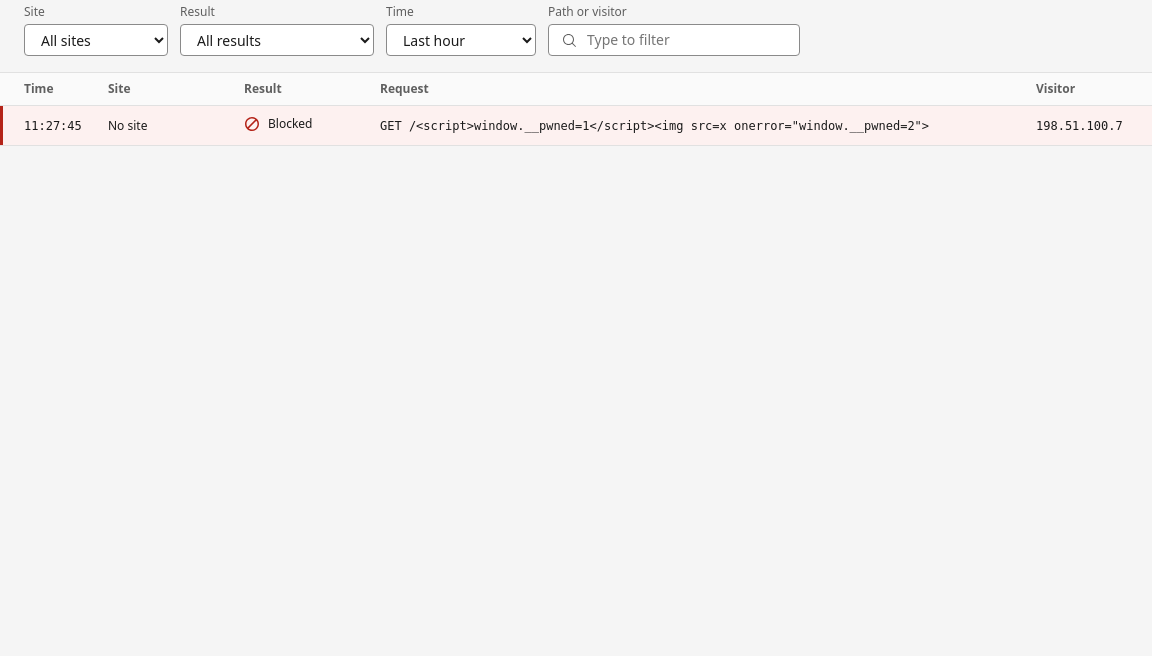
Test case: Activity shows attacker text as text (S-34) › renders the path, user agent and rule message literally
Expected: the row that starts with "No site" shows "Blocked", [268,114,312,132]
Click the row that starts with "No site" at (576, 126), box [0,106,1151,146]
(page scrolled)
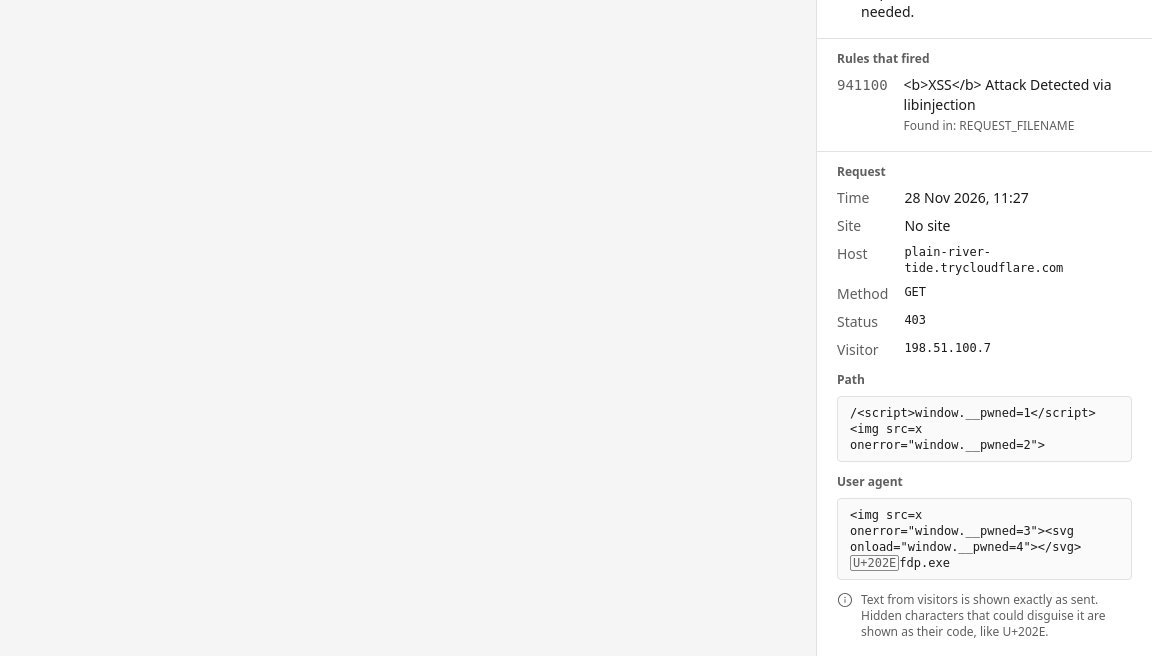
Result: the text with class "ctl" reads "U+202E" at [853,556,896,570]
